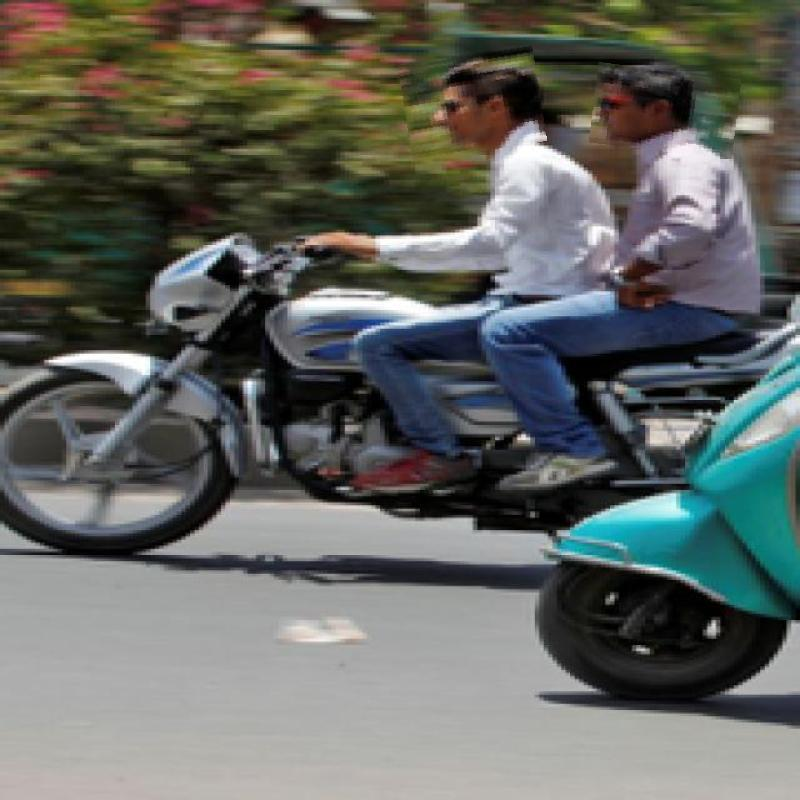nohelmet: (402, 48, 544, 158), (591, 66, 739, 155)
